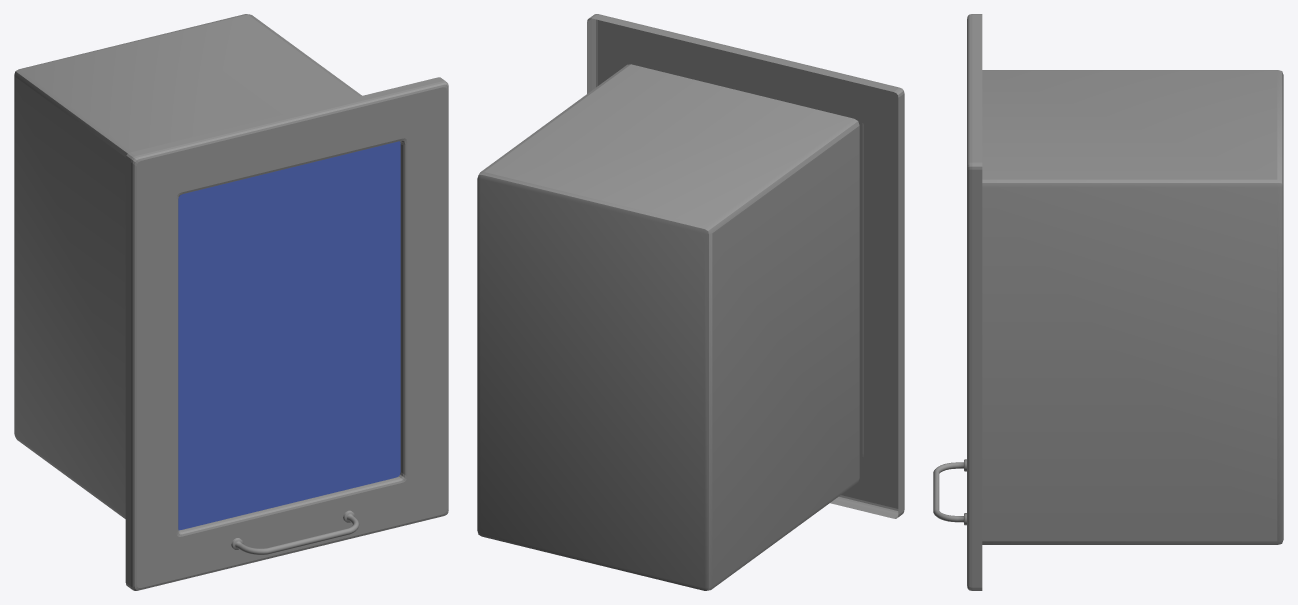
Rendered from House_Wineshelf.FBX.
3 renders of one model, left to right at view 1: azimuth 30°, elevation 25°; view 2: azimuth 150°, elevation 25°; view 3: azimuth 270°, elevation 25°, orthographic.
Visible parts, largest first — view 1: House_Wineshelf_Glass, House_Wineshelf_Frame, House_Wineshelf_Box, House_Wineshelf_Handle; view 2: House_Wineshelf_Box, House_Wineshelf_Frame; view 3: House_Wineshelf_Box, House_Wineshelf_Frame, House_Wineshelf_Handle.
Boxes of the visible parts, left/top/right/bottom form: House_Wineshelf_Glass: left=178, top=141, right=400, bottom=530; House_Wineshelf_Frame: left=125, top=77, right=448, bottom=590; House_Wineshelf_Box: left=14, top=14, right=361, bottom=518; House_Wineshelf_Handle: left=231, top=510, right=359, bottom=554; House_Wineshelf_Box: left=477, top=64, right=859, bottom=590; House_Wineshelf_Frame: left=587, top=14, right=904, bottom=518; House_Wineshelf_Box: left=982, top=70, right=1283, bottom=544; House_Wineshelf_Frame: left=967, top=14, right=982, bottom=590; House_Wineshelf_Handle: left=933, top=459, right=966, bottom=525.
Size of the model in its own units: 58.24 by 76.29 by 56.63.
